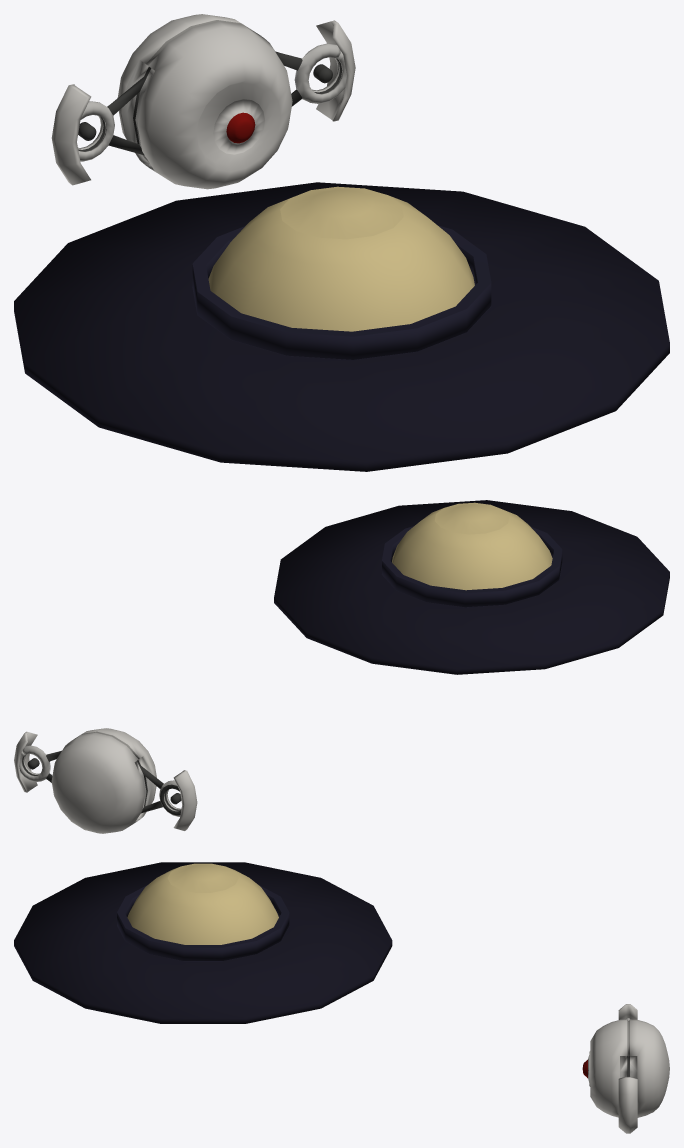
File: LucasBozzi_889208.fbx_Enemies.fbx
The picture shows the model from 3 angles, top to bottom: view 1: azimuth 30°, elevation 25°; view 2: azimuth 150°, elevation 25°; view 3: azimuth 270°, elevation 25°; orthographic projection. The views are drawn at different scales.
Parts seen in each view (by area): view 1: UFO, Drone; view 2: UFO, Drone; view 3: UFO, Drone.
Boxes of the visible parts, x1,y1,x2,y2 form: UFO: [14, 182, 669, 471]; Drone: [51, 14, 355, 189]; UFO: [274, 500, 669, 674]; Drone: [14, 728, 197, 833]; UFO: [14, 862, 392, 1023]; Drone: [582, 1004, 669, 1133].
Size of the model in its own units: 2787 by 1242 by 4178.
